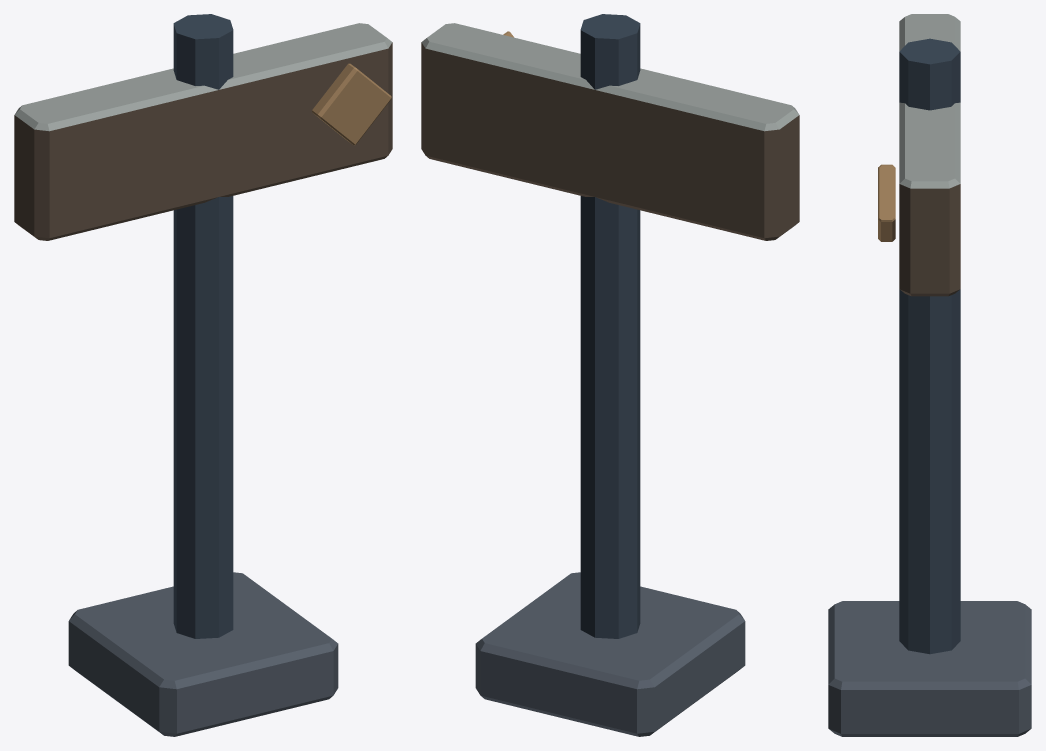
The model's file is waymarker.glb.
3 renders of one model, left to right at view 1: azimuth 30°, elevation 25°; view 2: azimuth 150°, elevation 25°; view 3: azimuth 270°, elevation 25°, orthographic.
Visible parts, largest first — view 1: waymarker__body; view 2: waymarker__body; view 3: waymarker__body.
Part boxes in pixels (x1=…): waymarker__body: x1=14, y1=14, x2=392, y2=736; waymarker__body: x1=421, y1=14, x2=799, y2=736; waymarker__body: x1=828, y1=14, x2=1031, y2=736.
Bounding box in the file's own units: 0.8 × 1.4 × 0.4.
